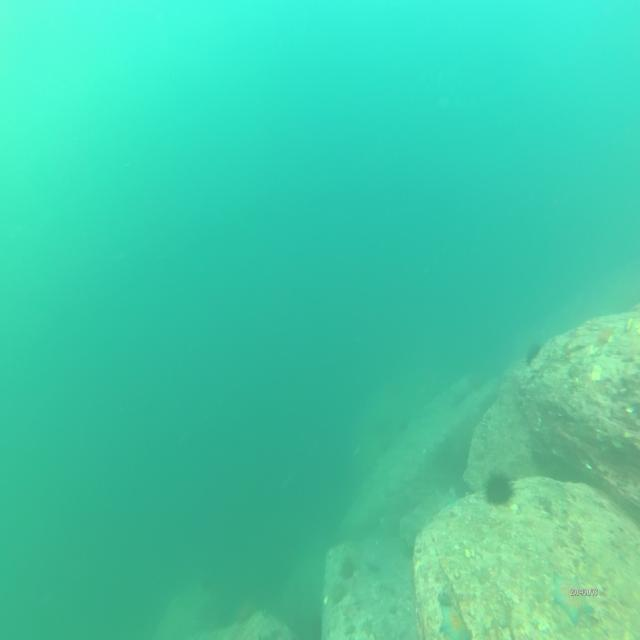echinus: (485, 469, 513, 506), (338, 552, 358, 580), (526, 340, 544, 368)
starfish: (552, 568, 596, 624), (436, 598, 472, 640)
